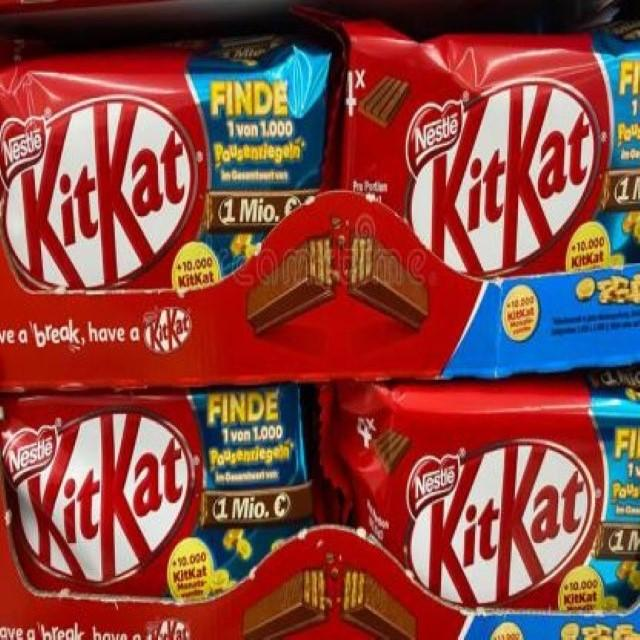kitkat_chocolate: (353, 31, 640, 359), (3, 56, 317, 336), (338, 405, 640, 640), (0, 400, 280, 640)
